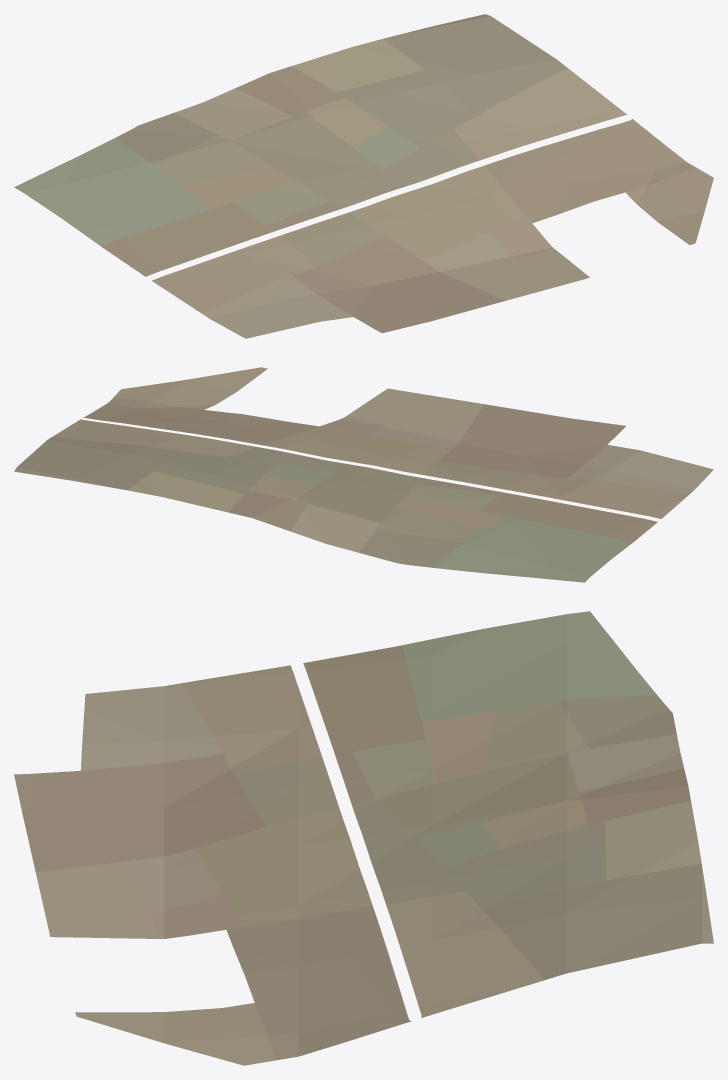
File: farm_-11_-18_soil.glb
3 renders of one model, top to bottom at view 1: azimuth 30°, elevation 25°; view 2: azimuth 150°, elevation 25°; view 3: azimuth 270°, elevation 25°, orthographic. The views are drawn at different scales.
Parts seen in each view (by area): view 1: geometry_0; view 2: geometry_0; view 3: geometry_0.
Part boxes in pixels (box(x1,y1,x2,y2)): geometry_0: box(14, 14, 713, 338); geometry_0: box(14, 367, 713, 582); geometry_0: box(14, 611, 713, 1065).
Bounding box in the file's own units: 558 × 59.85 × 417.
